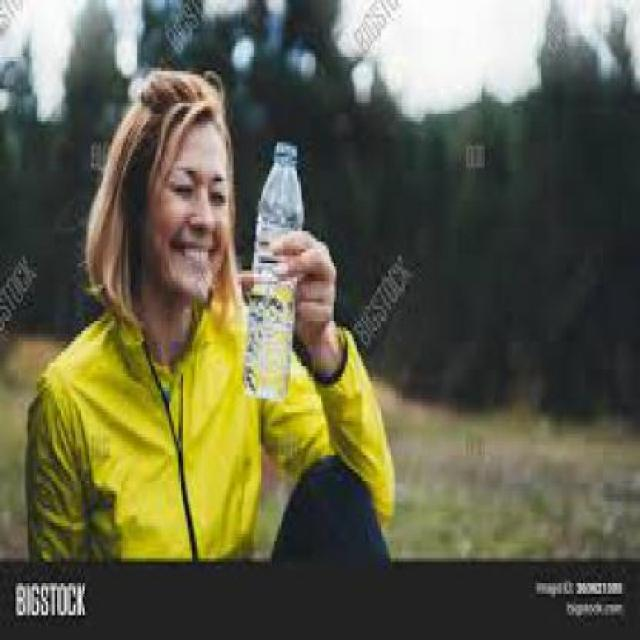Drinking: (239, 129, 310, 416)
